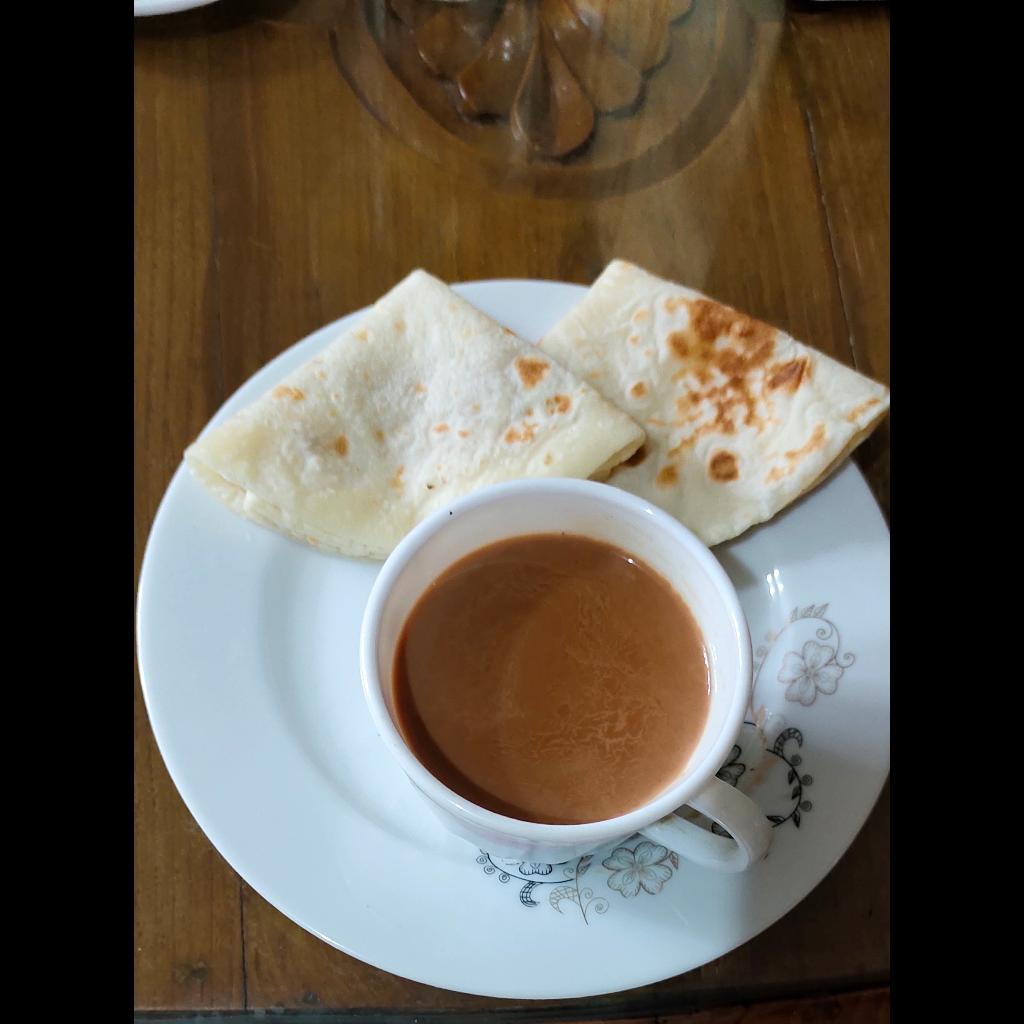cha: (396, 535, 712, 824)
ruti: (182, 257, 890, 570)
